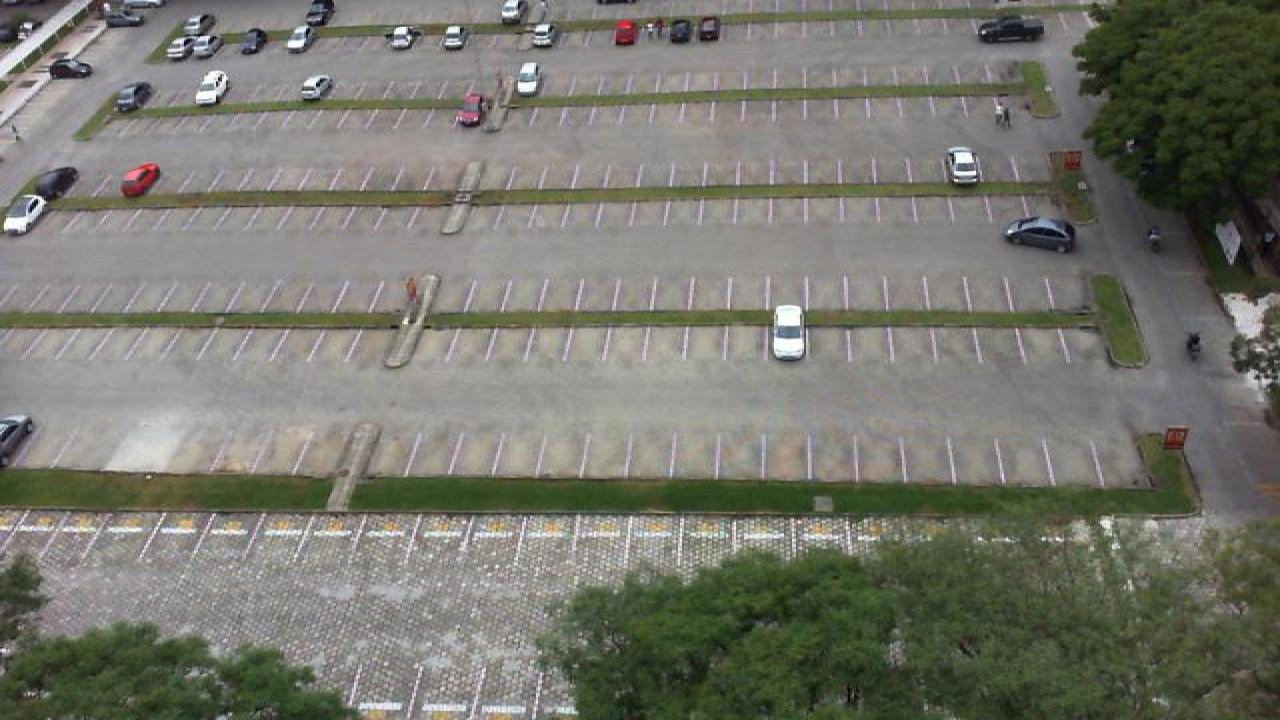Car: (1004, 215, 1078, 252), (2, 192, 48, 236), (770, 305, 806, 361), (28, 165, 78, 205), (976, 15, 1044, 44), (0, 415, 32, 467), (946, 146, 982, 186), (120, 162, 160, 198), (196, 70, 232, 106), (112, 81, 154, 111), (456, 91, 486, 128), (46, 58, 94, 80), (300, 73, 334, 101), (514, 62, 542, 94), (304, 0, 336, 27), (284, 25, 314, 53), (384, 23, 414, 50), (528, 22, 556, 50), (610, 19, 638, 46), (164, 36, 194, 60), (186, 14, 218, 36), (240, 29, 268, 54), (188, 34, 218, 57), (668, 17, 694, 43), (498, 0, 526, 24), (696, 16, 720, 42), (442, 26, 468, 47)
